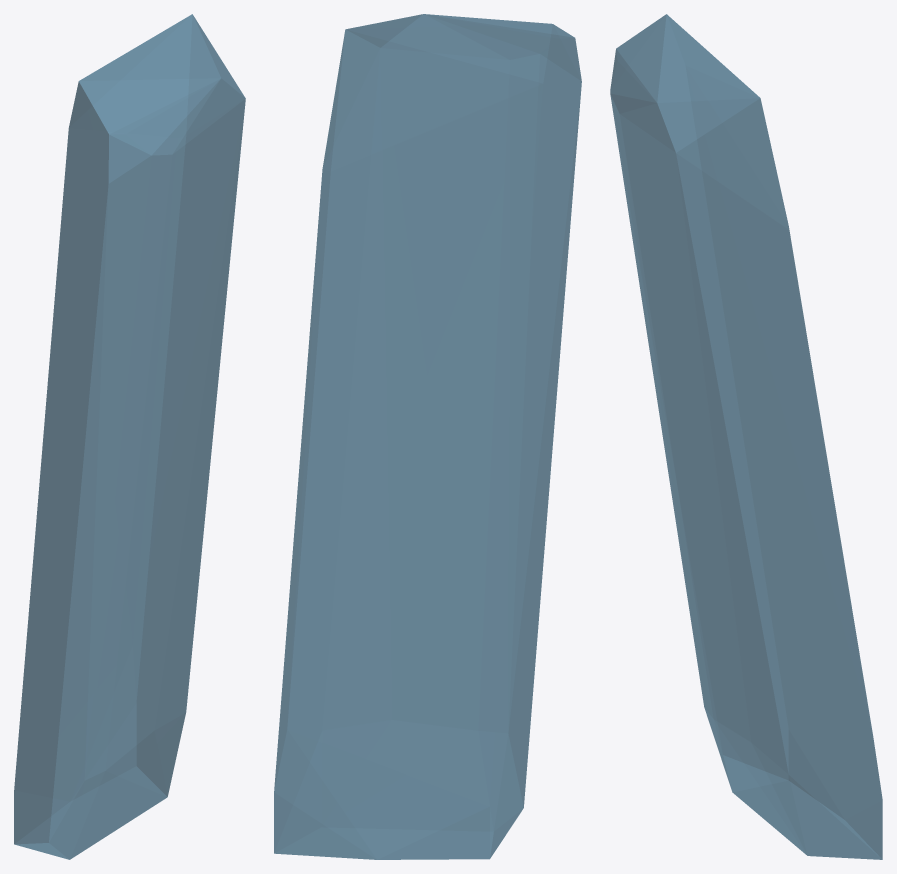
The picture shows the model from 3 angles, left to right: view 1: azimuth 30°, elevation 25°; view 2: azimuth 150°, elevation 25°; view 3: azimuth 270°, elevation 25°; orthographic projection. The views are drawn at different scales.
Parts seen in each view (by area): view 1: Shape_IndexedFaceSet.029_Shape_IndexedFaceSet.6436; view 2: Shape_IndexedFaceSet.029_Shape_IndexedFaceSet.6436; view 3: Shape_IndexedFaceSet.029_Shape_IndexedFaceSet.6436.
Part boxes in pixels (x1,y1,x2,y2): Shape_IndexedFaceSet.029_Shape_IndexedFaceSet.6436: [14, 14, 245, 859]; Shape_IndexedFaceSet.029_Shape_IndexedFaceSet.6436: [274, 14, 581, 859]; Shape_IndexedFaceSet.029_Shape_IndexedFaceSet.6436: [610, 14, 882, 859].
Bounding box in the file's own units: 0.1274 × 0.5733 × 0.1847.
